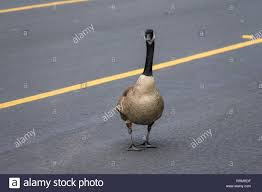goose: (111, 27, 171, 155)
